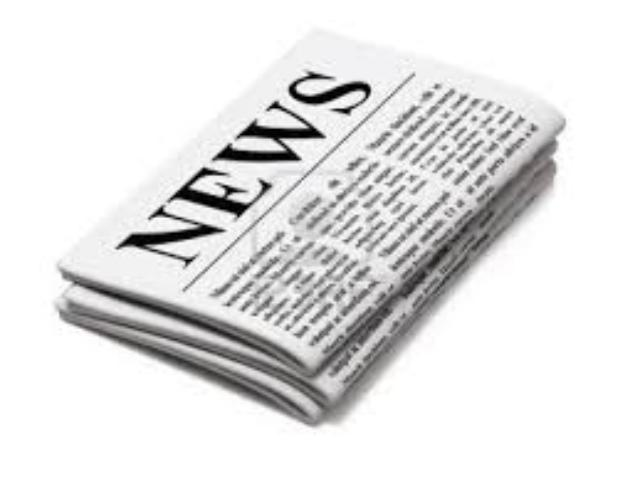cardboard paper: (57, 30, 558, 418)
